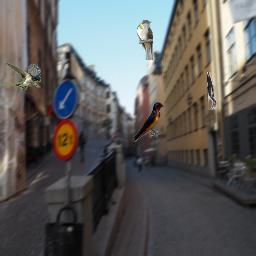Cuckoo: (137, 20, 153, 60)
Swallow: (133, 102, 165, 142), (1, 62, 41, 90)
Woodpecker: (207, 72, 217, 110)
